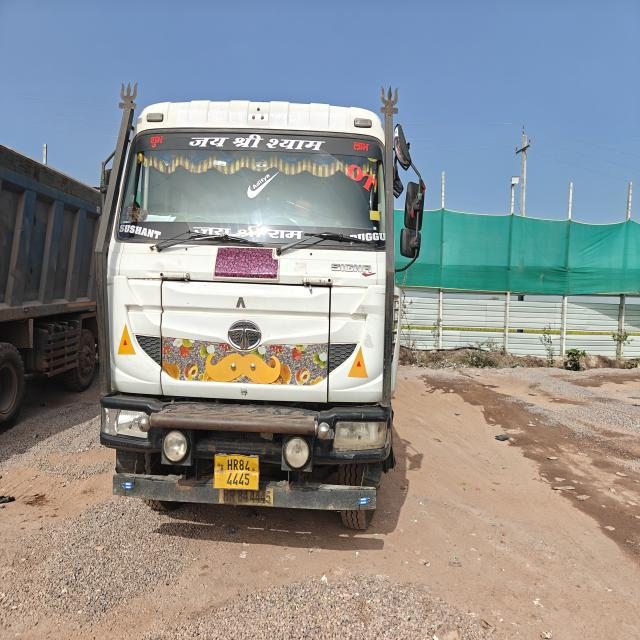license_plate: (214, 455, 259, 490), (220, 487, 272, 506)
